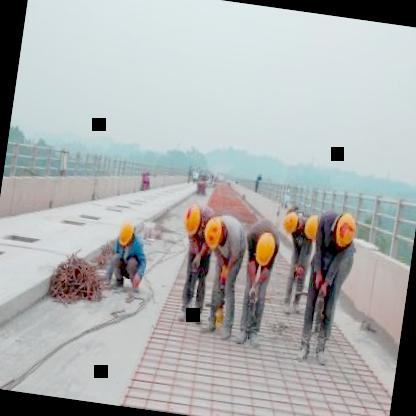helmet: (176, 197, 206, 252), (329, 204, 360, 252), (251, 226, 278, 276), (298, 210, 328, 247), (202, 210, 228, 252), (114, 218, 139, 249), (280, 208, 302, 236)
